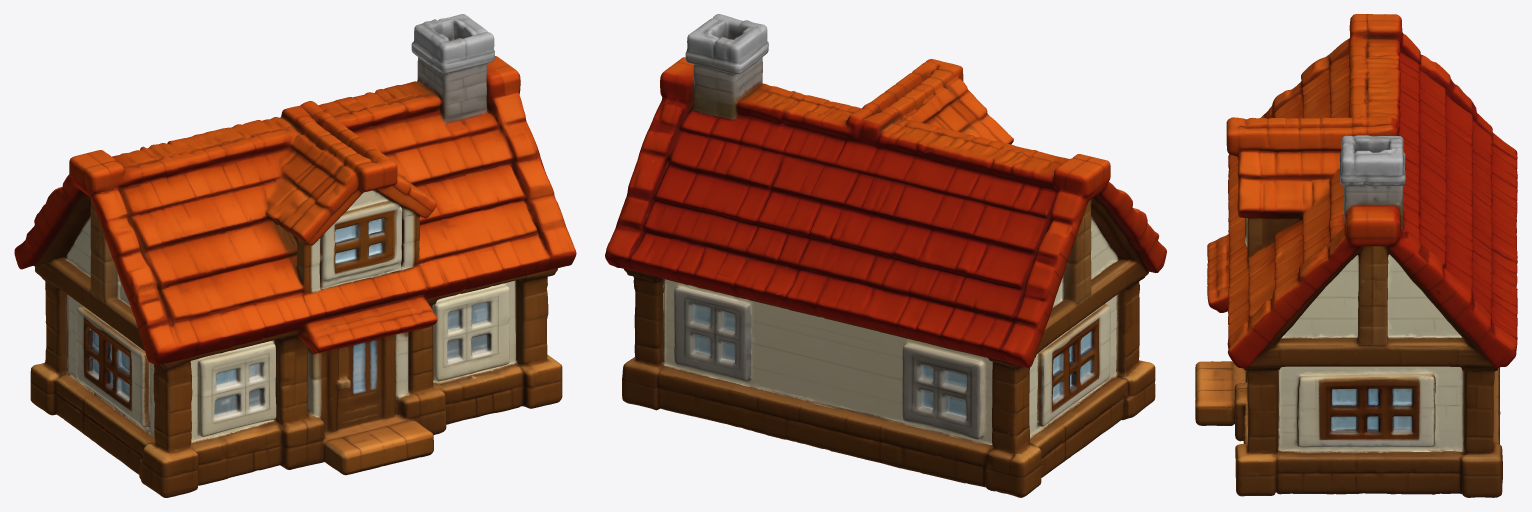
3 renders of one model, left to right at view 1: azimuth 30°, elevation 25°; view 2: azimuth 150°, elevation 25°; view 3: azimuth 270°, elevation 25°, orthographic.
Visible parts, largest first — view 1: world; view 2: world; view 3: world.
Part boxes in pixels (x1,y1,x2,y2): world: (14,14,576,497); world: (605,14,1166,497); world: (1195,14,1517,497).
Bounding box in the file's own units: 1 × 0.7537 × 0.6559.
1 material, 1 textured.
